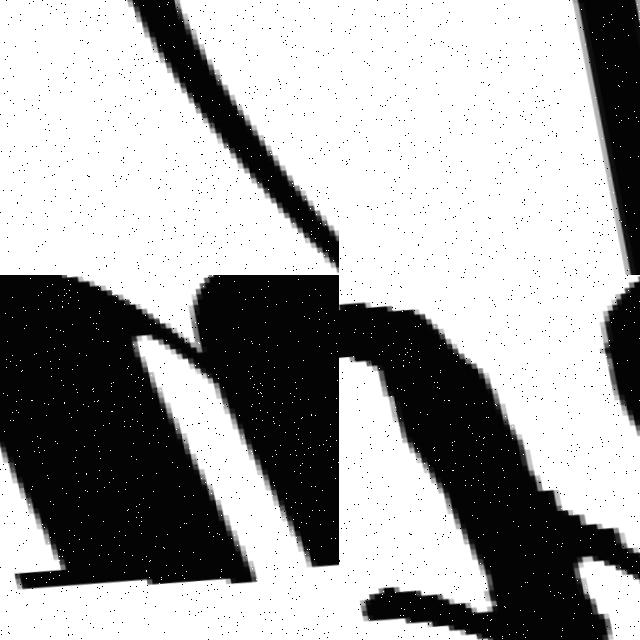1: (467, 0, 640, 275)
7: (18, 0, 339, 275)
N: (339, 275, 640, 640)
U: (0, 275, 339, 622)
